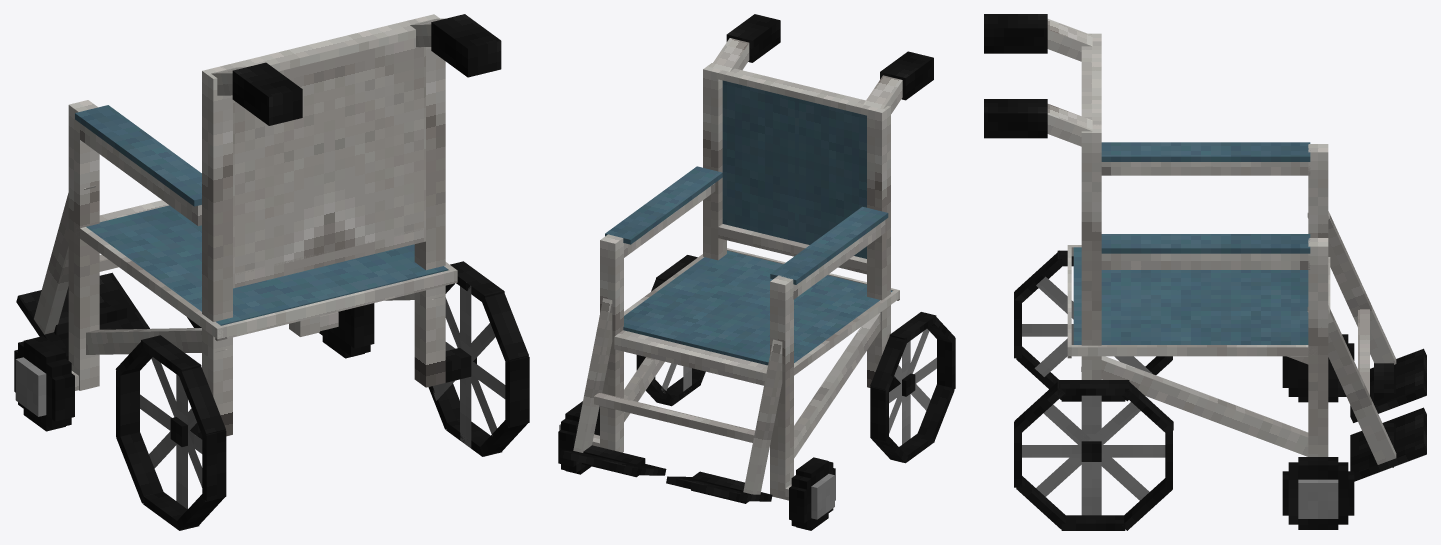
The model's file is wheelchair_json.glb.
3 views of the same model, side by side, from view 1: azimuth 30°, elevation 25°; view 2: azimuth 150°, elevation 25°; view 3: azimuth 270°, elevation 25° (orthographic). The views are drawn at different scales.
Visible parts, largest first — view 1: cube_65, cube_43, cube_77, cube_38, cube_64, cube_37, cube_40, cube_79, cube_47, cube_70, cube_75, cube_73 (+31 smaller); view 2: cube_77, cube_65, cube_43, cube_38, cube_37, cube_60, cube_64, cube_61, cube_40, cube_45, cube_75, cube_52 (+32 smaller); view 3: cube_77, cube_64, cube_69, cube_60, cube_61, cube_40, cube_62, cube_52, cube_39, cube_53, cube_75, cube_50 (+33 smaller).
Part boxes in pixels (left/top/right/bottom): cube_65: left=329, top=38, right=425, bottom=252; cube_43: left=233, top=59, right=329, bottom=274; cube_77: left=86, top=205, right=448, bottom=325; cube_38: left=202, top=66, right=232, bottom=436; cube_64: left=414, top=14, right=445, bottom=387; cube_37: left=68, top=100, right=99, bottom=390; cube_40: left=75, top=105, right=201, bottom=206; cube_79: left=215, top=269, right=457, bottom=341; cube_47: left=232, top=62, right=302, bottom=125; cube_70: left=431, top=14, right=501, bottom=77; cube_75: left=34, top=185, right=95, bottom=334; cube_73: left=16, top=272, right=149, bottom=360; cube_77: left=623, top=250, right=892, bottom=365; cube_65: left=722, top=80, right=796, bottom=241; cube_43: left=797, top=98, right=866, bottom=258; cube_38: left=867, top=106, right=890, bottom=387; cube_37: left=770, top=275, right=793, bottom=499; cube_60: left=600, top=234, right=623, bottom=452; cube_64: left=703, top=63, right=726, bottom=260; cube_61: left=605, top=166, right=722, bottom=244; cube_40: left=770, top=206, right=888, bottom=284; cube_45: left=794, top=313, right=880, bottom=458; cube_75: left=743, top=339, right=782, bottom=494; cube_52: left=573, top=298, right=612, bottom=452; cube_77: left=1073, top=247, right=1308, bottom=344; cube_64: left=1081, top=124, right=1101, bottom=379; cube_69: left=1081, top=356, right=1308, bottom=456; cube_60: left=1308, top=238, right=1328, bottom=456; cube_61: left=1101, top=234, right=1310, bottom=253; cube_40: left=1101, top=142, right=1310, bottom=161; cube_62: left=1101, top=253, right=1309, bottom=269; cube_52: left=1307, top=305, right=1396, bottom=464; cube_39: left=1101, top=162, right=1310, bottom=175; cube_53: left=1067, top=345, right=1316, bottom=356; cube_75: left=1307, top=211, right=1396, bottom=364; cube_50: left=1350, top=407, right=1426, bottom=481.
Size of the model in its own units: 1.44 by 1.87 by 1.88.
Materials: 4 (4 with a texture image).
